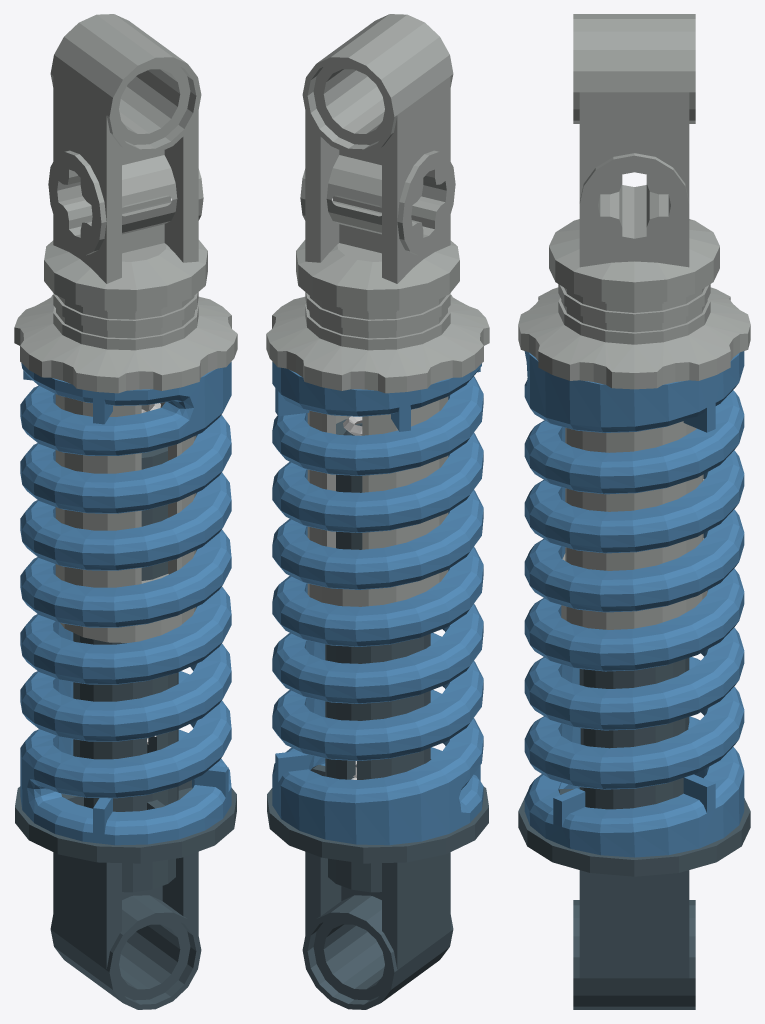
3 renders of one model, left to right at view 1: azimuth 30°, elevation 25°; view 2: azimuth 150°, elevation 25°; view 3: azimuth 270°, elevation 25°, orthographic. The views are drawn at different scales.
Parts seen in each view (by area): view 1: world; view 2: world; view 3: world.
Boxes of the visible parts, box(x1,y1,x2,y2) form: world: box(14, 14, 237, 1009); world: box(266, 14, 489, 1009); world: box(518, 14, 750, 1009).
Size of the model in its own units: 0.0152 by 0.0712 by 0.0152.
